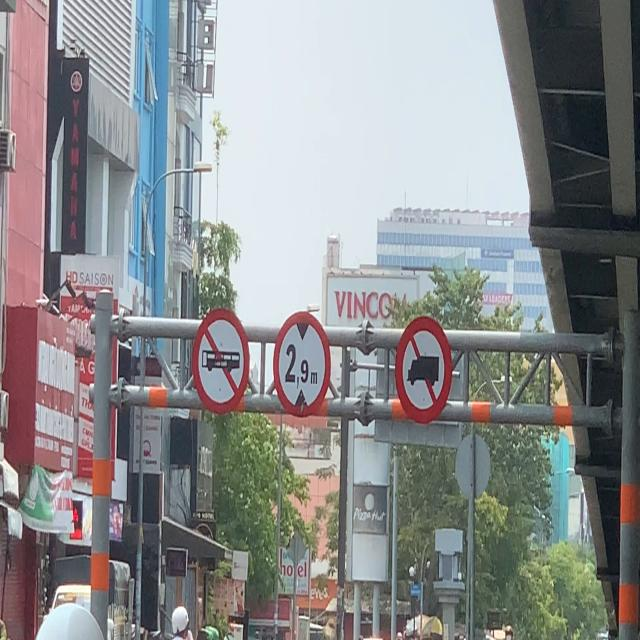Cam con lai: (394, 315, 453, 426), (193, 304, 251, 416)
Chieu cao toi da: (273, 311, 331, 418)
